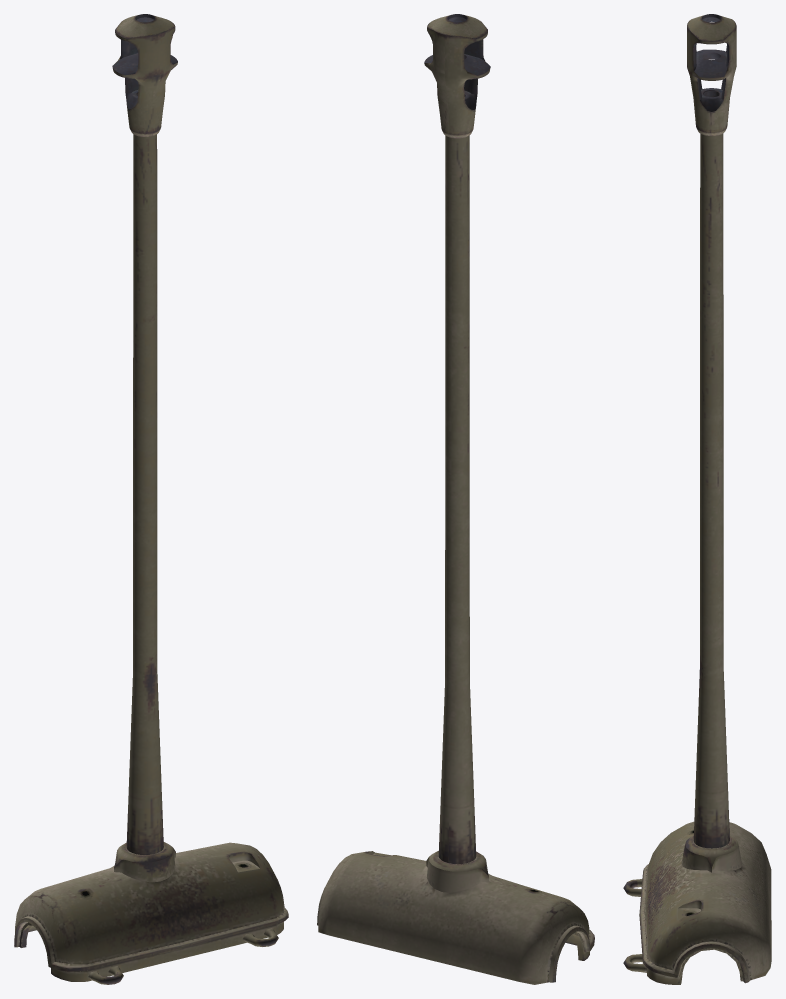
File: Gun_01.glb
3 renders of one model, left to right at view 1: azimuth 30°, elevation 25°; view 2: azimuth 150°, elevation 25°; view 3: azimuth 270°, elevation 25°, orthographic.
Visible parts, largest first — view 1: set_0_group_0; view 2: set_0_group_0; view 3: set_0_group_0.
Boxes of the visible parts, box(x1,y1,x2,y2) form: set_0_group_0: box(14, 14, 288, 984); set_0_group_0: box(317, 14, 594, 984); set_0_group_0: box(623, 14, 771, 984).
Bounding box in the file's own units: 1.5 × 5.57 × 0.8234.
Materials: 1 (1 with a texture image).
